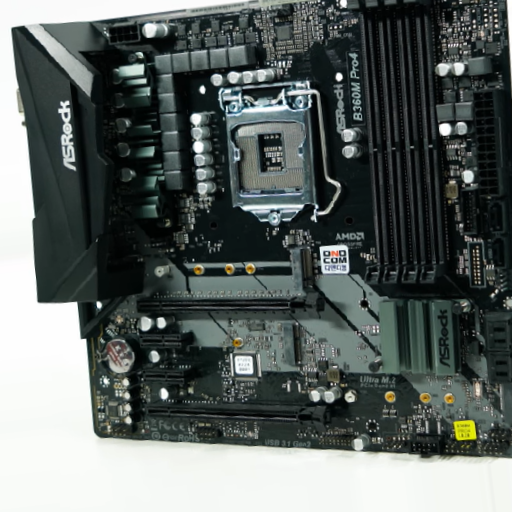CPU: (219, 80, 316, 226)
GPU: (144, 403, 331, 433), (141, 293, 323, 319)
MOTHERBOARD: (81, 1, 509, 459)
RAM: (349, 1, 448, 285)
SSD: (289, 247, 314, 294), (277, 324, 299, 366)
